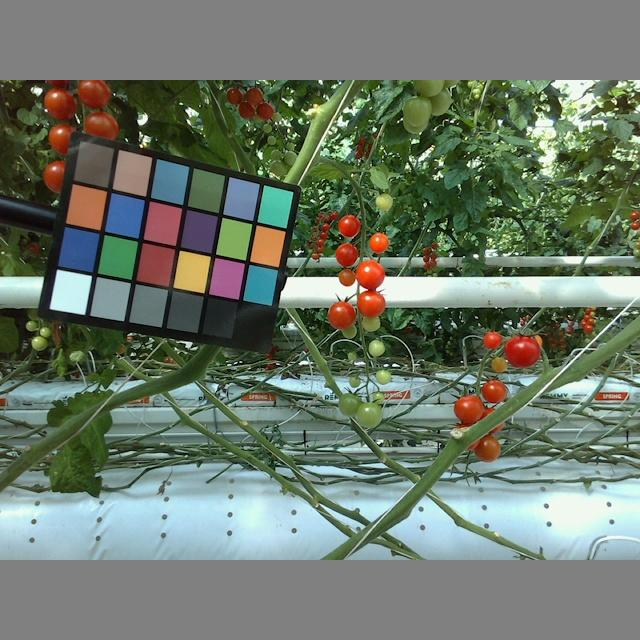green: (401, 93, 432, 126), (354, 398, 383, 430), (335, 390, 363, 416), (367, 338, 386, 358), (376, 192, 393, 212), (377, 368, 392, 385)
pink: (473, 436, 504, 461), (489, 353, 508, 374)
red: (503, 333, 542, 368), (43, 86, 78, 119), (83, 111, 118, 143), (47, 123, 79, 157), (455, 393, 484, 425), (77, 81, 111, 108), (328, 299, 356, 330), (355, 261, 384, 289), (43, 158, 66, 192), (359, 292, 386, 319), (335, 240, 359, 268), (480, 378, 508, 402), (483, 327, 504, 350), (338, 216, 359, 237), (369, 231, 389, 253), (337, 265, 356, 287)
